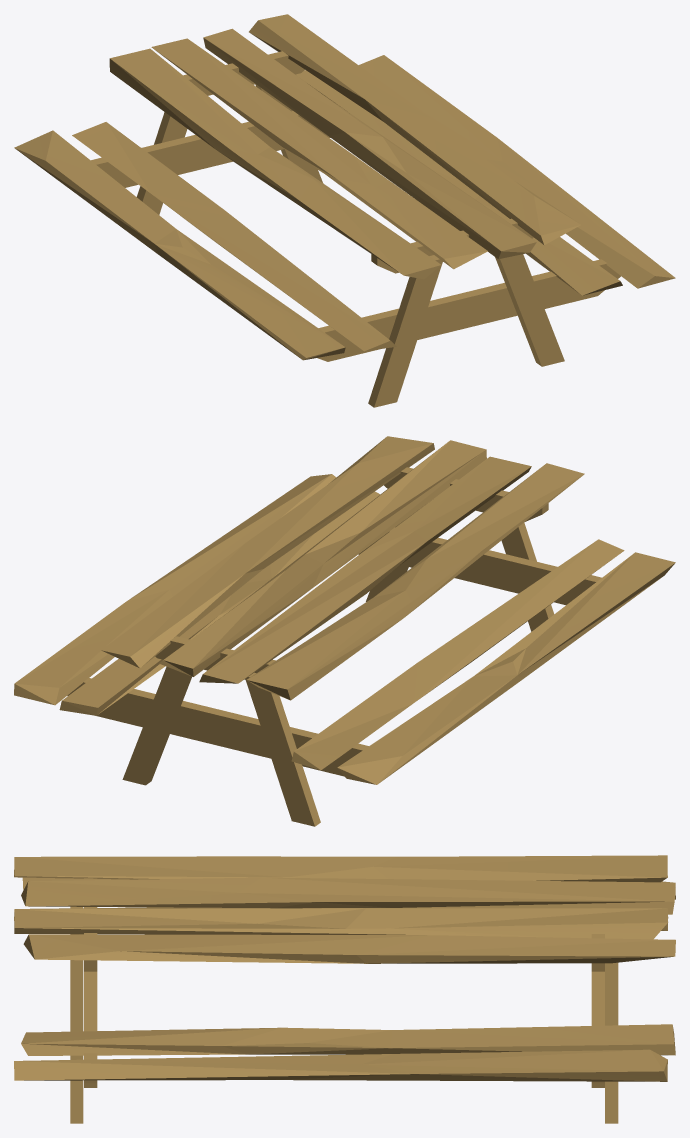
The model's file is Table.fbx.
3 renders of one model, top to bottom at view 1: azimuth 30°, elevation 25°; view 2: azimuth 150°, elevation 25°; view 3: azimuth 270°, elevation 25°, orthographic. The views are drawn at different scales.
Visible parts, largest first — view 1: Cube.014; view 2: Cube.014; view 3: Cube.014.
Boxes of the visible parts, left/top/right/bottom form: Cube.014: left=14, top=14, right=675, bottom=407; Cube.014: left=14, top=436, right=675, bottom=826; Cube.014: left=14, top=855, right=675, bottom=1123.
Size of the model in its own units: 348 by 138 by 488.
